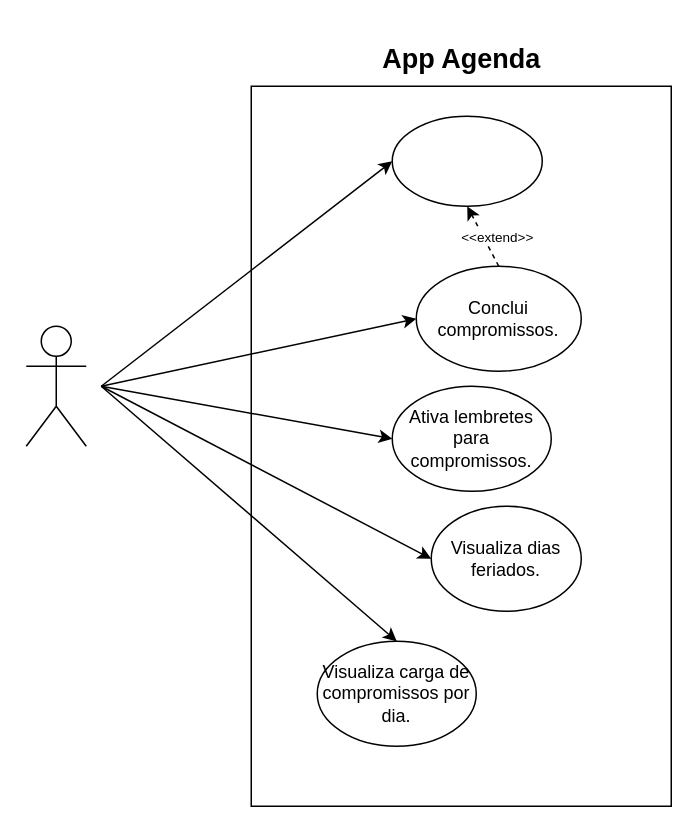
Image size: 698x833. Some labels were removed from this diagram. The shapes that lost their labels are listed below. From the top down, each one's centre as x and y in pixels, then its label:
the point at 466,160: Cadastra novos compromissos.
the point at 55,385: Usuário
